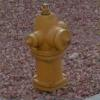Hydrant: (22, 7, 77, 99)
